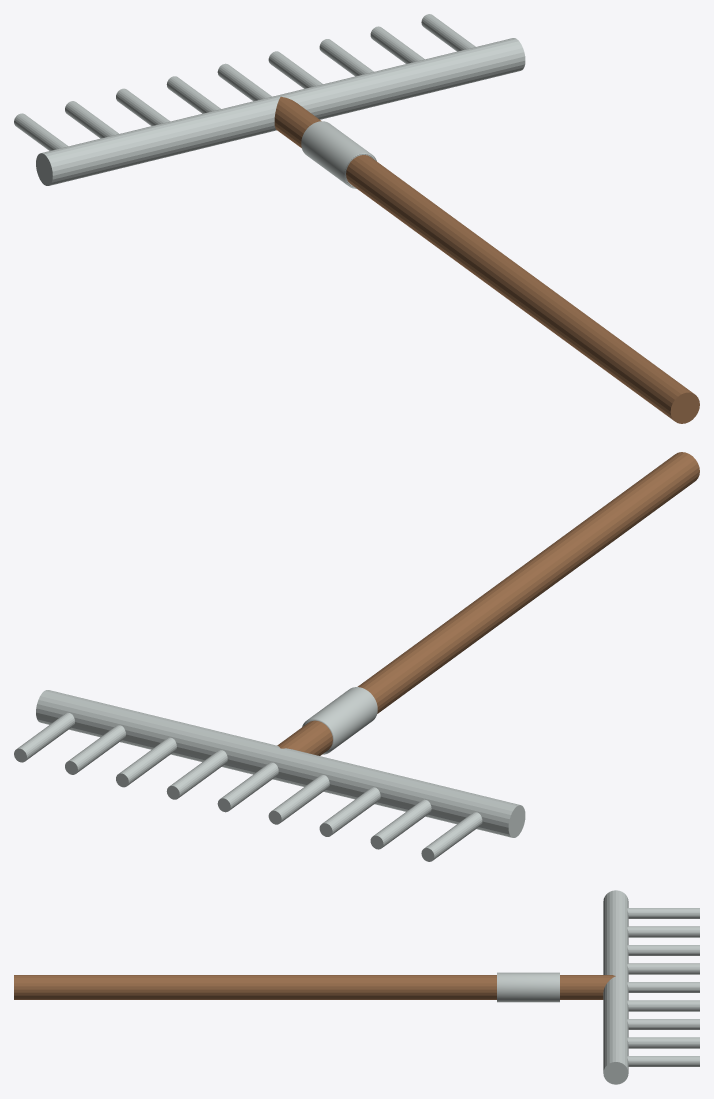
Rendered from tea-garden-and-processing-house-tea-garden-and-process-f29adbdb__30764.glb.
3 renders of one model, top to bottom at view 1: azimuth 30°, elevation 25°; view 2: azimuth 150°, elevation 25°; view 3: azimuth 270°, elevation 25°, orthographic. The views are drawn at different scales.
Parts seen in each view (by area): view 1: tea-garden-and-processing-house-leaf-spreading-rake; view 2: tea-garden-and-processing-house-leaf-spreading-rake; view 3: tea-garden-and-processing-house-leaf-spreading-rake.
Part boxes in pixels (x1,y1,x2,y2): tea-garden-and-processing-house-leaf-spreading-rake: (14,14,699,423); tea-garden-and-processing-house-leaf-spreading-rake: (14,452,699,861); tea-garden-and-processing-house-leaf-spreading-rake: (14,890,699,1084).
Size of the model in its own units: 0.58 by 0.042 by 0.98.
